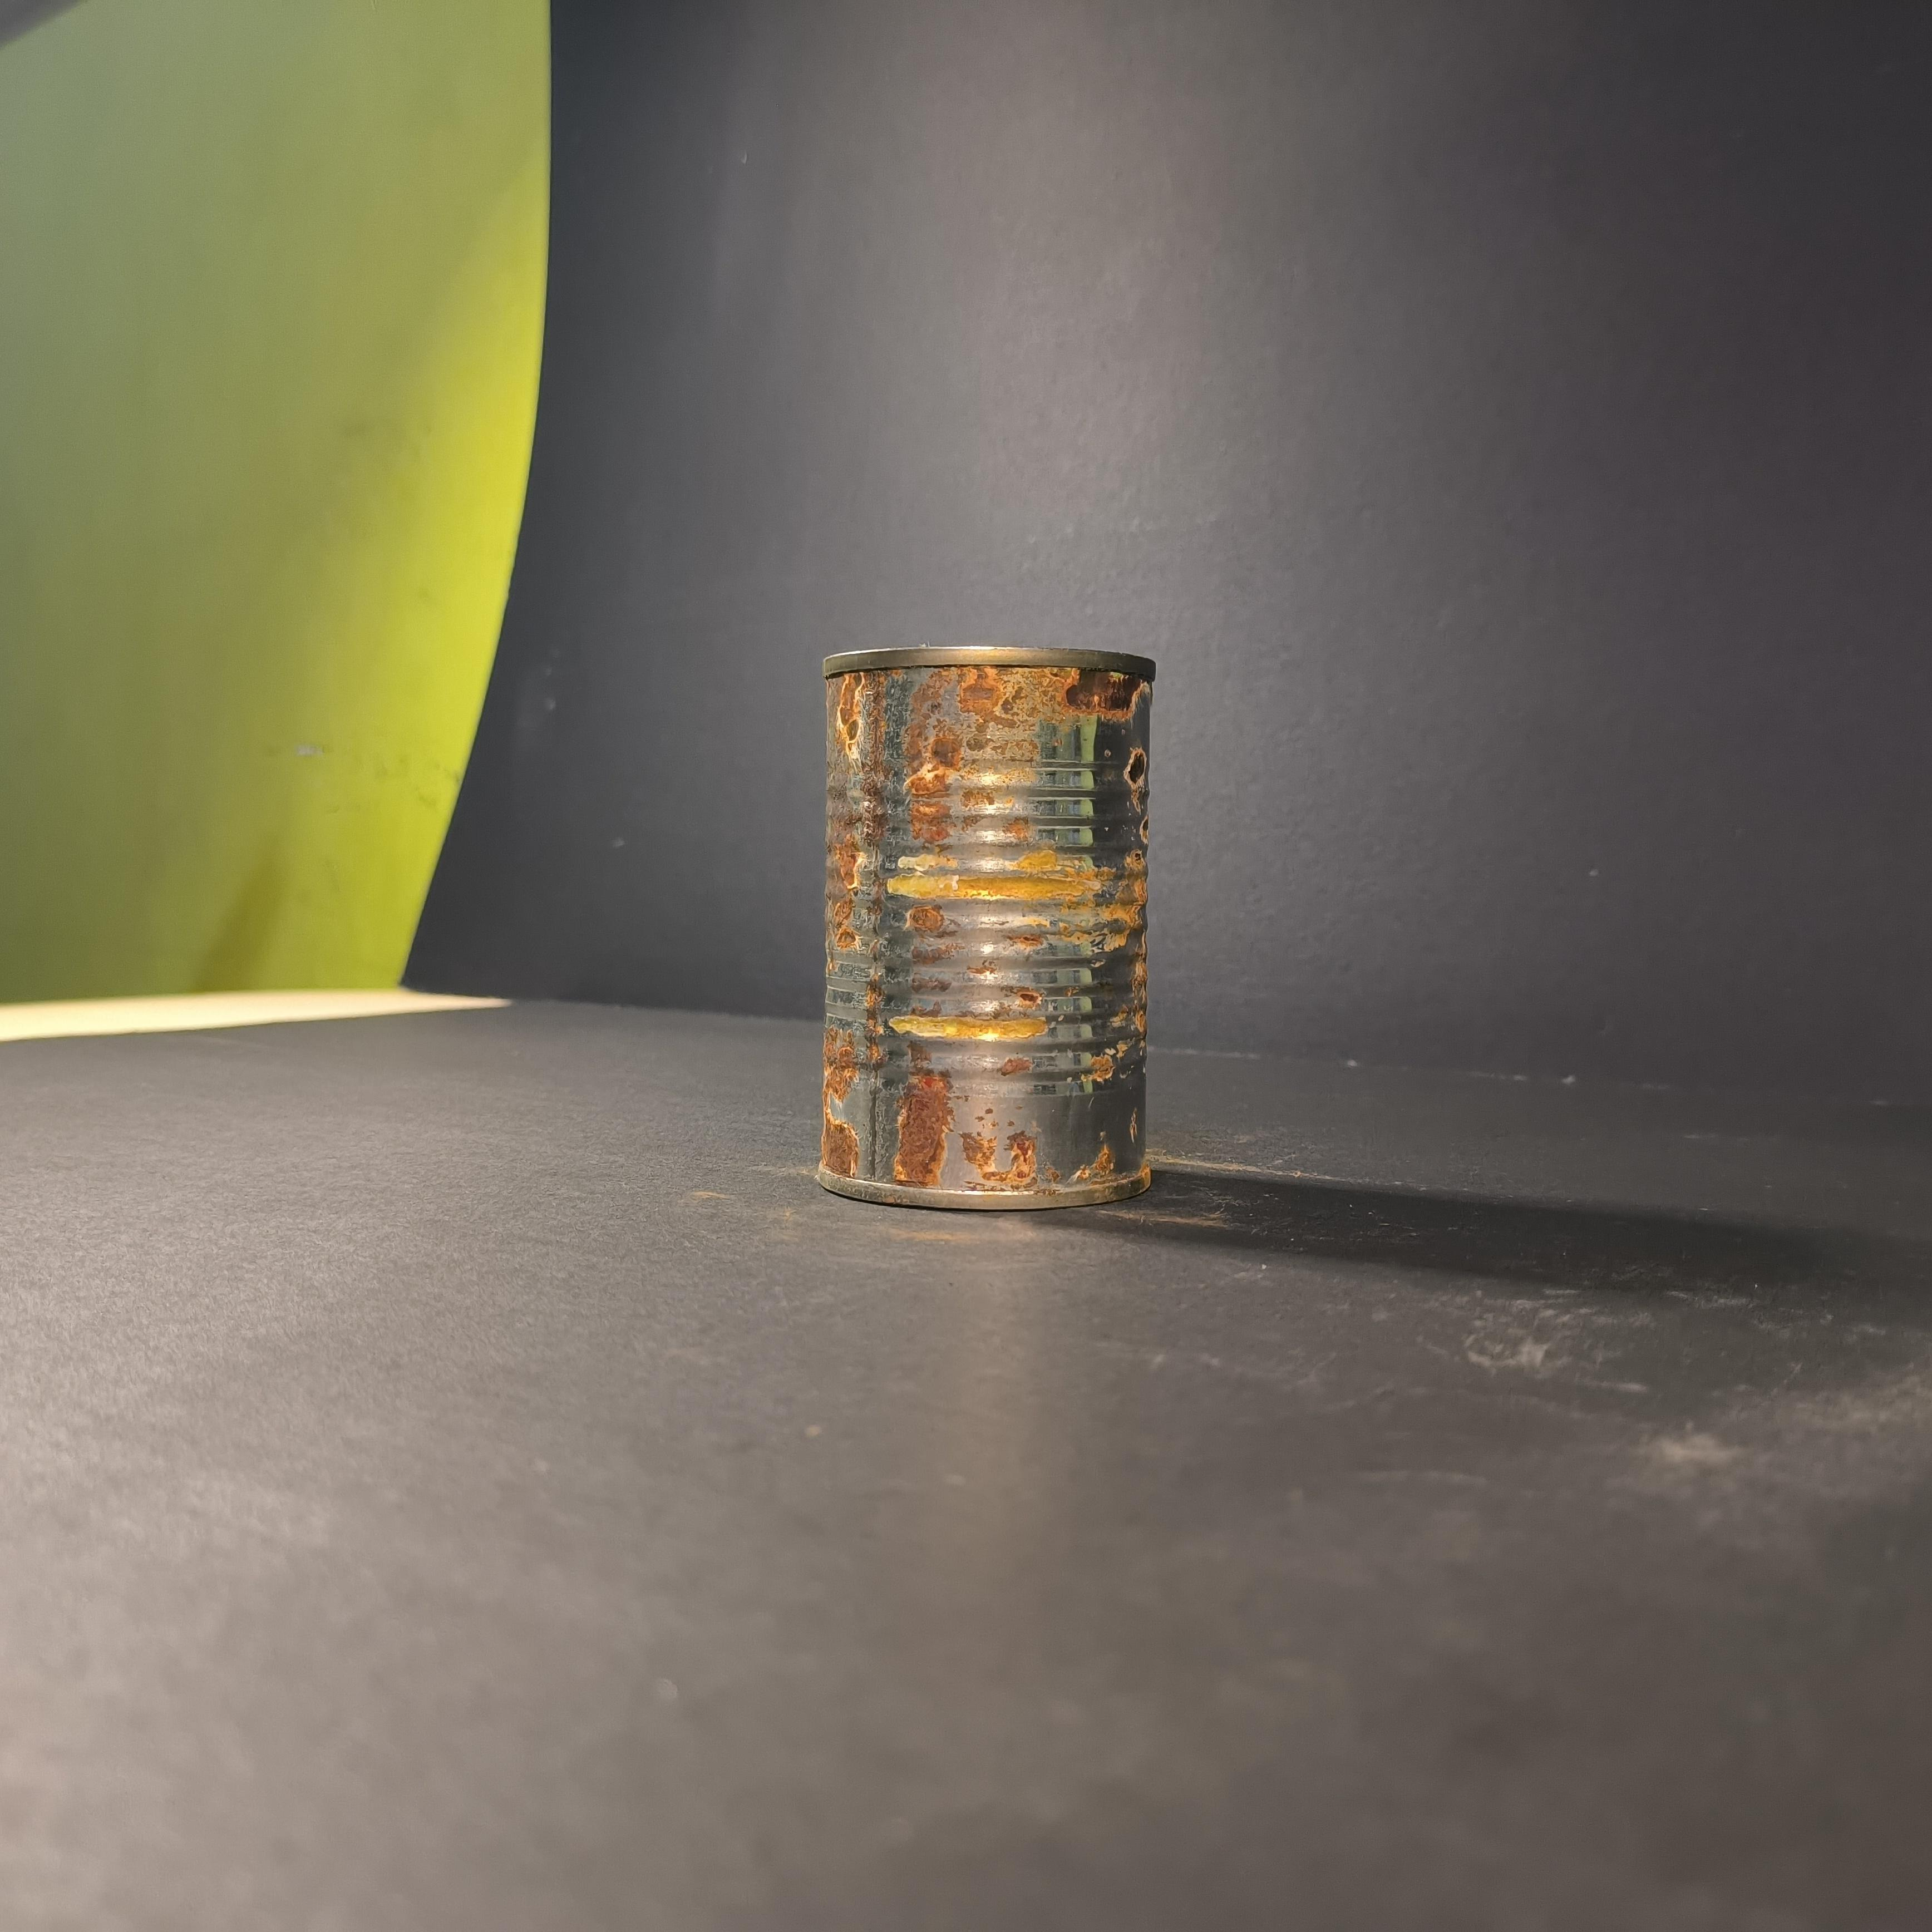Rusted: (784, 617, 1191, 1210)
